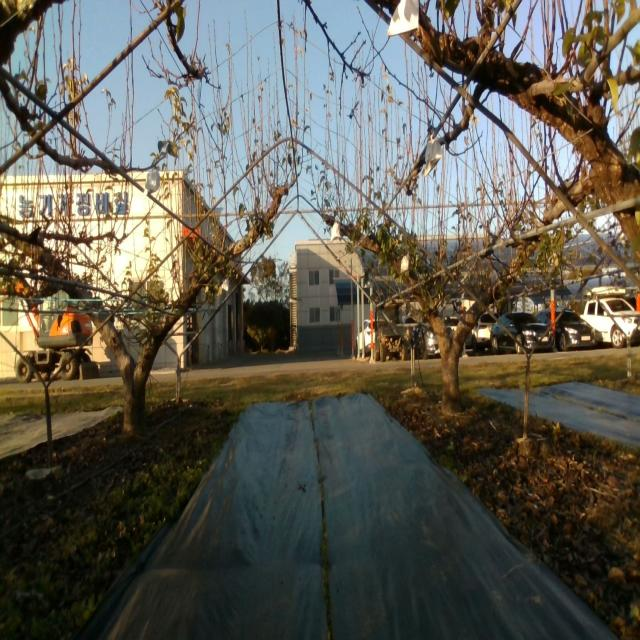pearbags: (387, 0, 419, 37), (424, 140, 444, 176), (144, 164, 160, 196), (330, 221, 342, 242)
